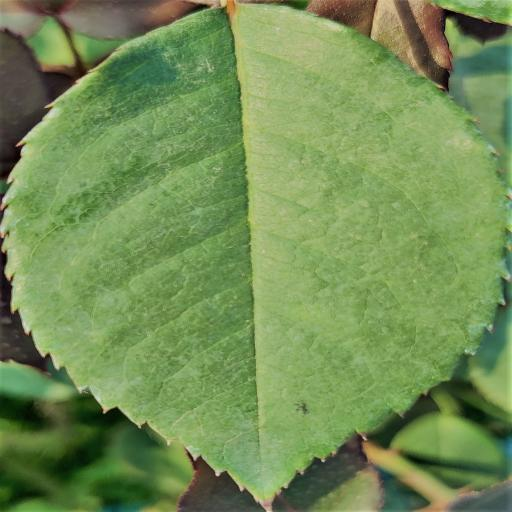healthy_leaf: (2, 5, 507, 504)
